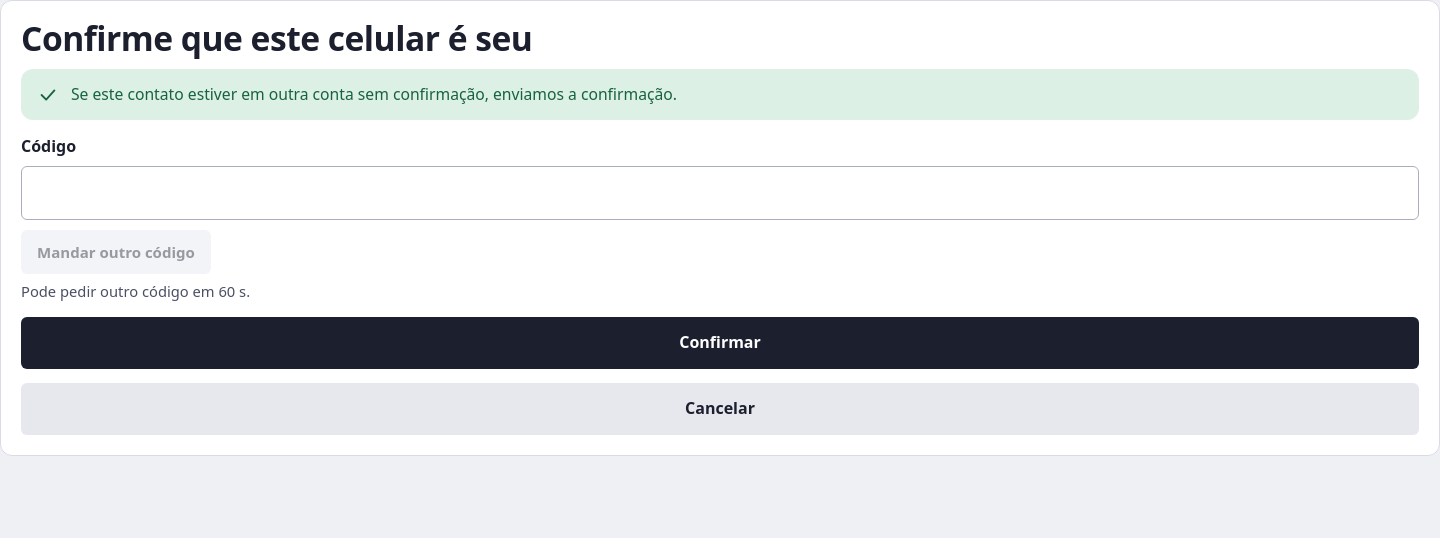
it: PosseNoCadastro › celular: outra falha ao confirmar vira aviso geral
The image size is (1440, 538).
Type "123456" into the field labelled "Código" at (720, 193), box [21,166,1419,220]
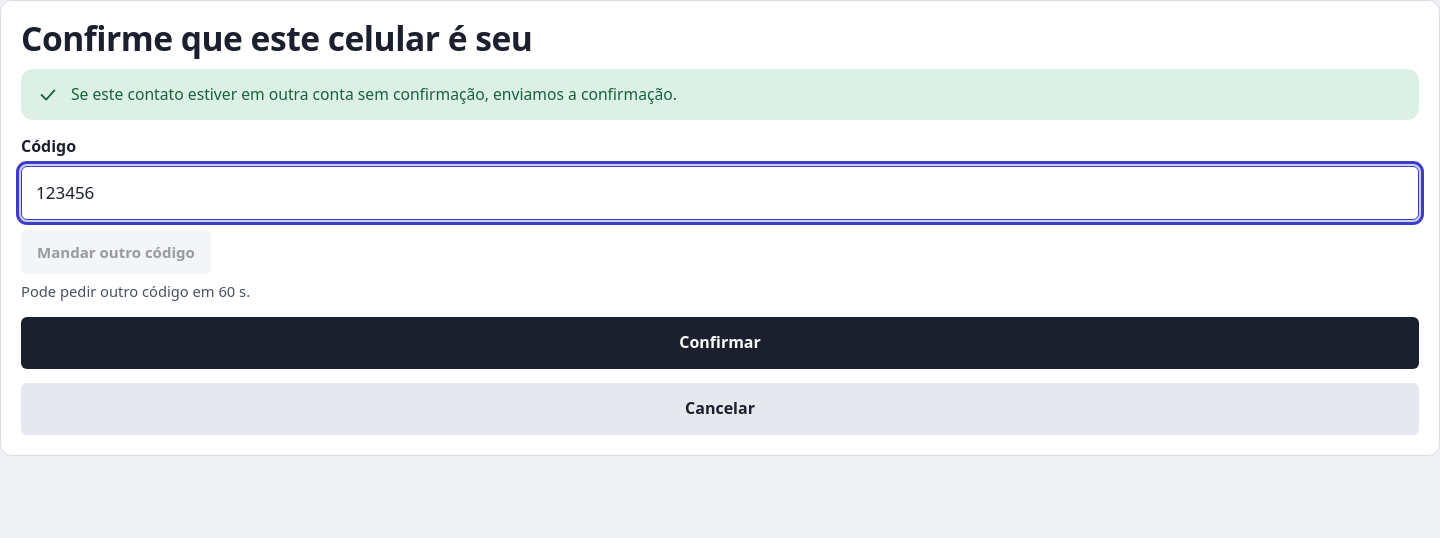
Click the button "Confirmar" at (720, 343), box [21,317,1419,369]
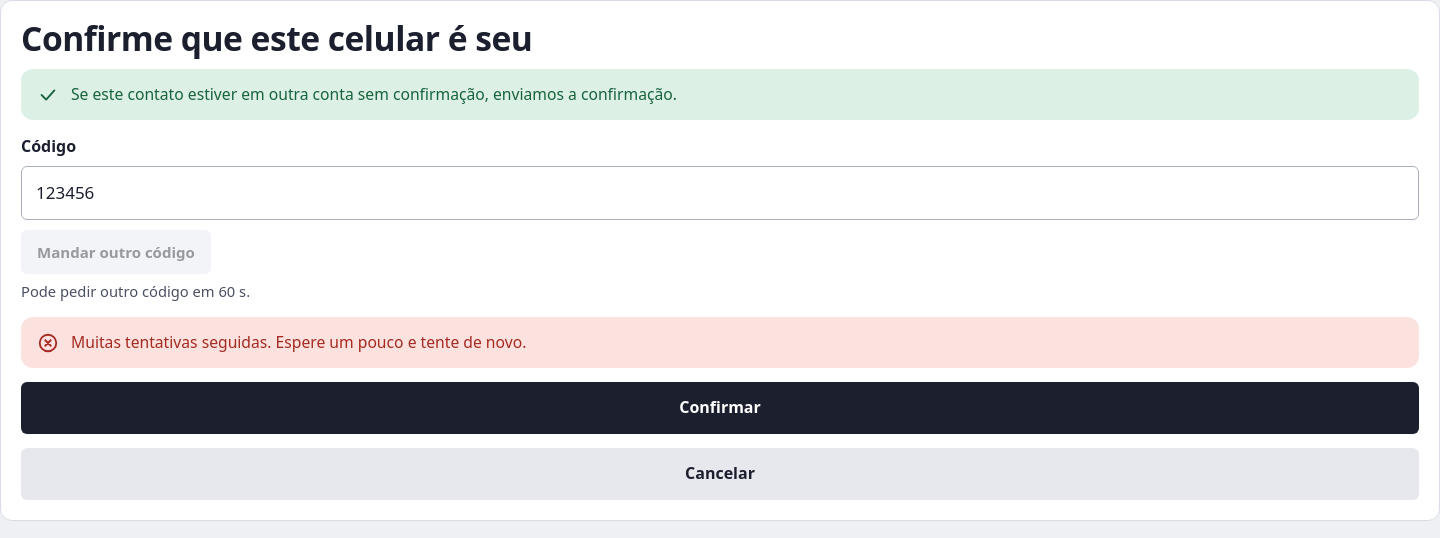
Check: the message "Muitas tentativas seguidas. Espere um pouco e tente de novo." is shown, box [21,317,1419,368]
